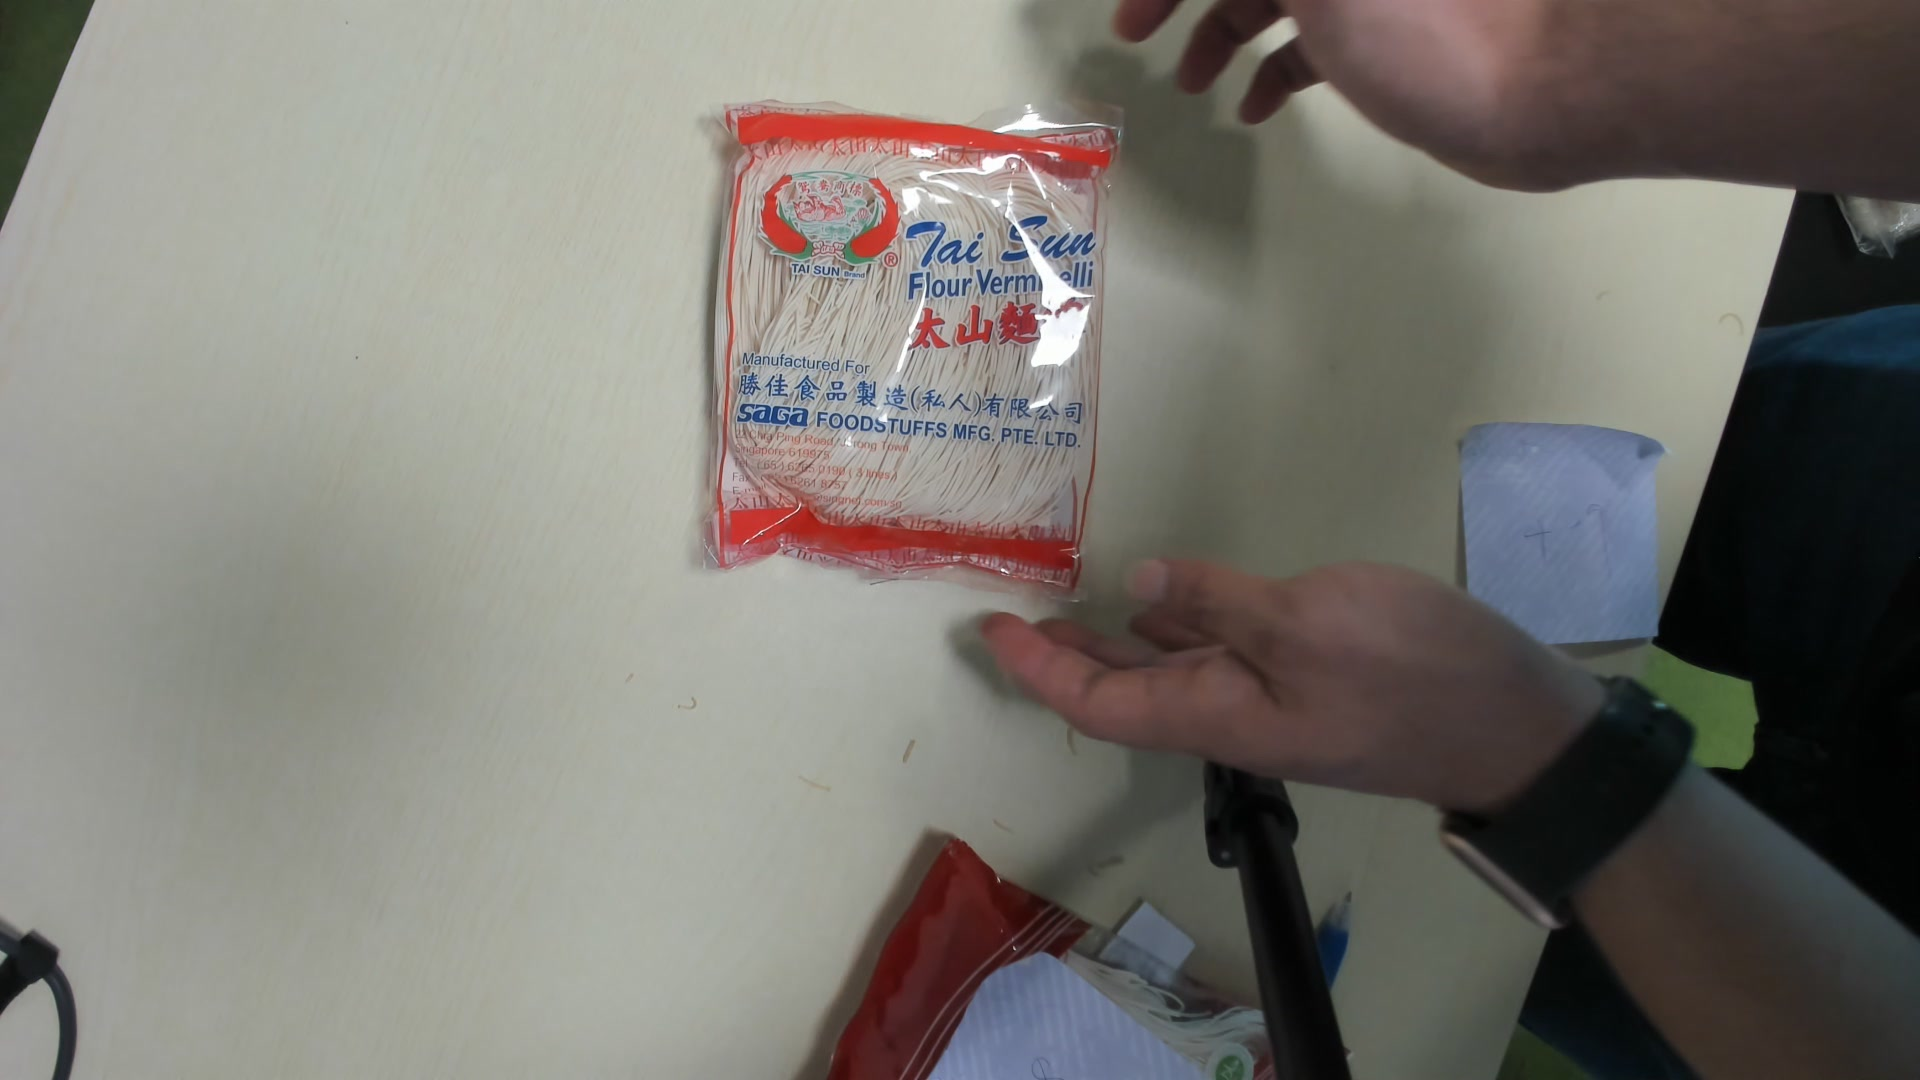BeeHoonVermicelli_100-199g_Halal_NonHealthy: (696, 94, 1105, 597)
